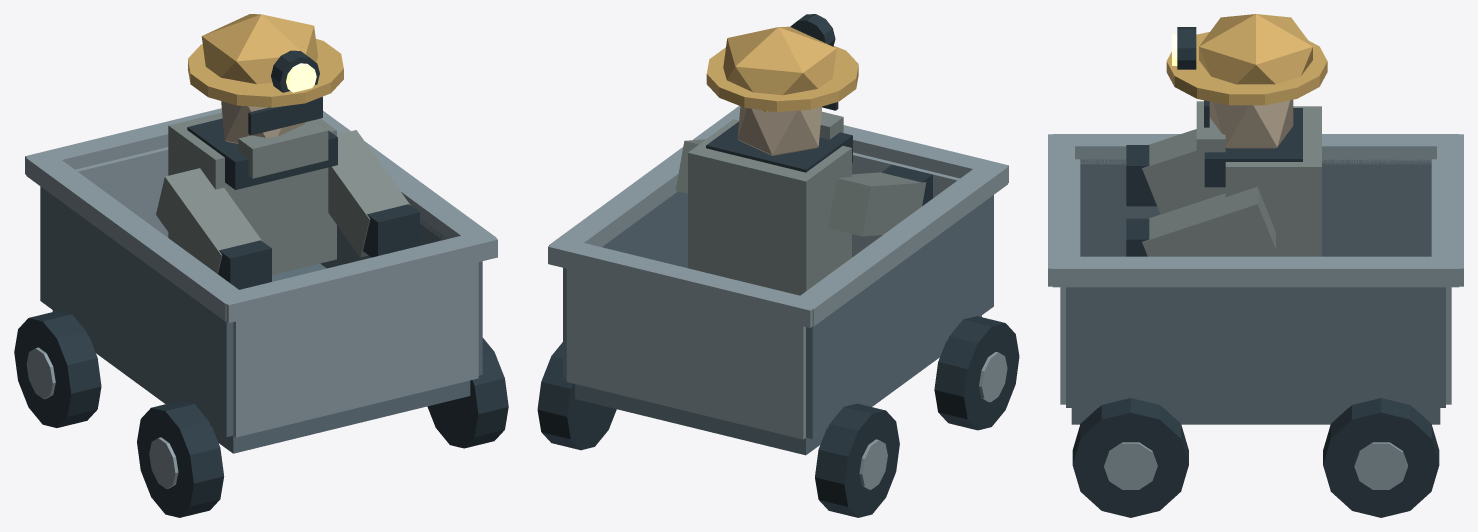
The model's file is miner-cart.glb.
The picture shows the model from 3 angles, left to right: view 1: azimuth 30°, elevation 25°; view 2: azimuth 150°, elevation 25°; view 3: azimuth 270°, elevation 25°; orthographic projection. The views are drawn at different scales.
Parts seen in each view (by area): view 1: Cart end, Cart side, Miner torso, Cart rim, Cart rim.002, Wheel, Wheel.001, Sleeve, Helmet crown, Cart floor, Sleeve.001, Wheel.002 (+15 smaller); view 2: Cart end.001, Cart side, Miner torso, Cart rim, Cart rim.003, Wheel, Wheel.001, Helmet crown, Cart rim.001, Cart floor, Sleeve, Wheel.003 (+11 smaller); view 3: Cart side.001, Cart side, Cart rim.001, Wheel.002, Wheel.003, Miner torso, Sleeve.001, Helmet crown, Cart rim, Helmet brim, Sleeve, Cart rim.003 (+12 smaller).
Boxes of the visible parts, x1=… form: Cart end: x1=233, y1=262, x2=478, y2=437; Cart side: x1=40, y1=186, x2=233, y2=437; Miner torso: x1=168, y1=112, x2=336, y2=275; Cart rim: x1=26, y1=153, x2=249, y2=321; Cart rim.002: x1=217, y1=230, x2=497, y2=322; Wheel: x1=137, y1=400, x2=224, y2=517; Wheel.001: x1=14, y1=311, x2=101, y2=427; Sleeve: x1=156, y1=168, x2=262, y2=273; Helmet crown: x1=201, y1=14, x2=317, y2=84; Cart floor: x1=52, y1=263, x2=470, y2=453; Sleeve.001: x1=328, y1=130, x2=410, y2=257; Wheel.002: x1=427, y1=338, x2=508, y2=448; Cart end.001: x1=566, y1=269, x2=805, y2=439; Cart side: x1=806, y1=195, x2=993, y2=439; Miner torso: x1=688, y1=119, x2=851, y2=295; Cart rim: x1=790, y1=161, x2=1007, y2=326; Cart rim.003: x1=548, y1=243, x2=822, y2=327; Wheel: x1=934, y1=316, x2=1019, y2=430; Wheel.001: x1=815, y1=403, x2=899, y2=517; Helmet crown: x1=723, y1=26, x2=836, y2=112; Cart rim.001: x1=549, y1=105, x2=740, y2=250; Cart floor: x1=575, y1=315, x2=981, y2=455; Sleeve: x1=828, y1=172, x2=926, y2=236; Wheel.003: x1=537, y1=342, x2=616, y2=450; Cart side.001: x1=1066, y1=287, x2=1445, y2=407; Cart side: x1=1080, y1=159, x2=1431, y2=256; Cart rim.001: x1=1052, y1=256, x2=1459, y2=287; Wheel.002: x1=1072, y1=398, x2=1188, y2=517; Wheel.003: x1=1323, y1=398, x2=1439, y2=517; Miner torso: x1=1225, y1=106, x2=1321, y2=256; Sleeve.001: x1=1142, y1=187, x2=1275, y2=256; Helmet crown: x1=1199, y1=14, x2=1312, y2=84; Cart rim: x1=1052, y1=134, x2=1459, y2=164; Helmet brim: x1=1166, y1=32, x2=1327, y2=105; Sleeve: x1=1142, y1=129, x2=1225, y2=214; Cart rim.003: x1=1437, y1=134, x2=1463, y2=286.
Size of the model in its own units: 1.69 by 2.1 by 1.86.
